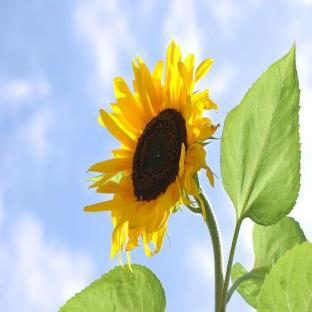sunflower: (84, 39, 227, 312)
